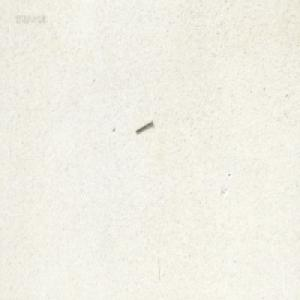Bolt: (134, 117, 153, 132)
